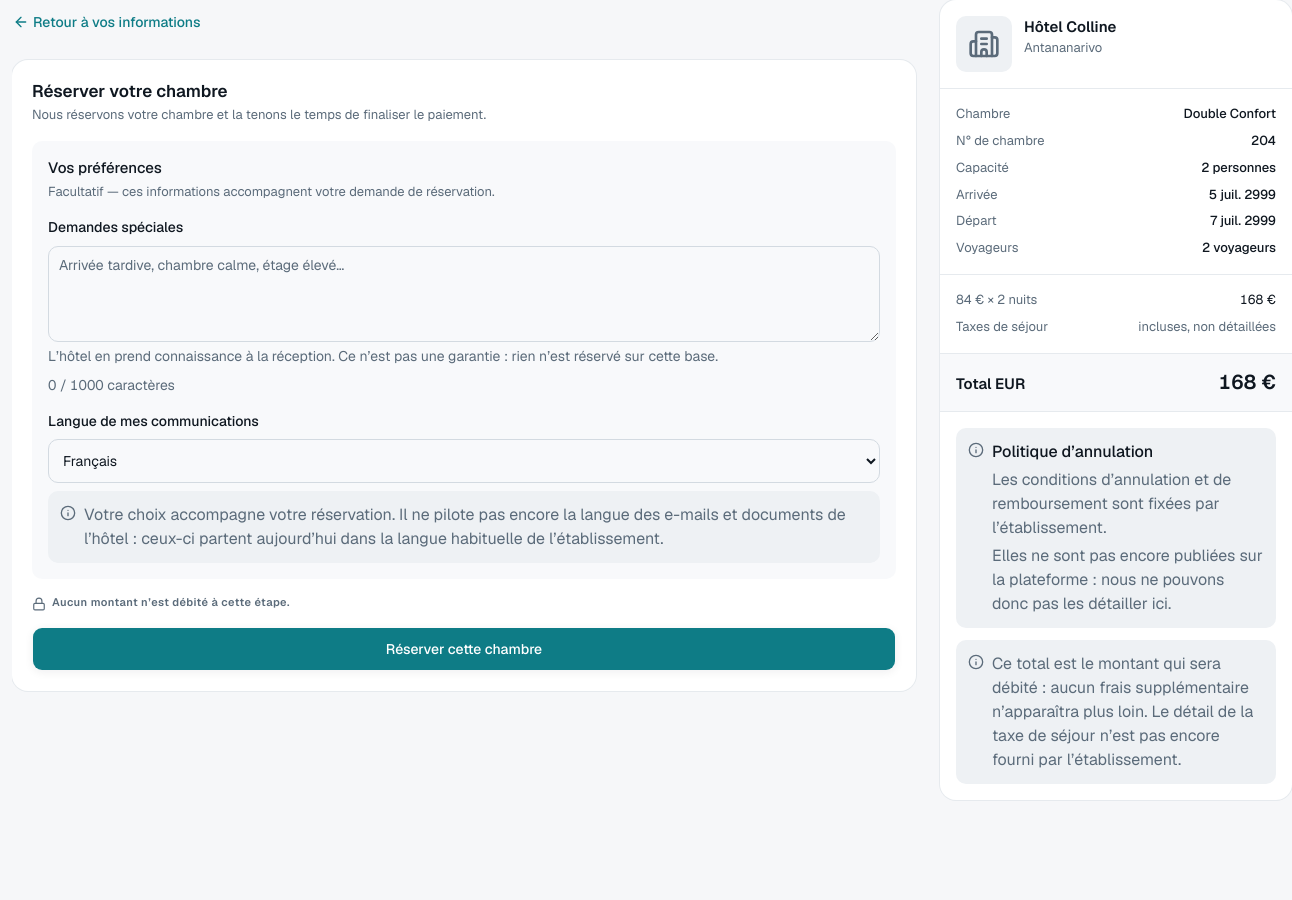
Test case: BookingPayment — échecs et issues (AC-11) › motif `room-unavailable` → issue `409`
Click the button with test id "payment-create-cta". click: [464, 649]
box: [32,627,896,671]
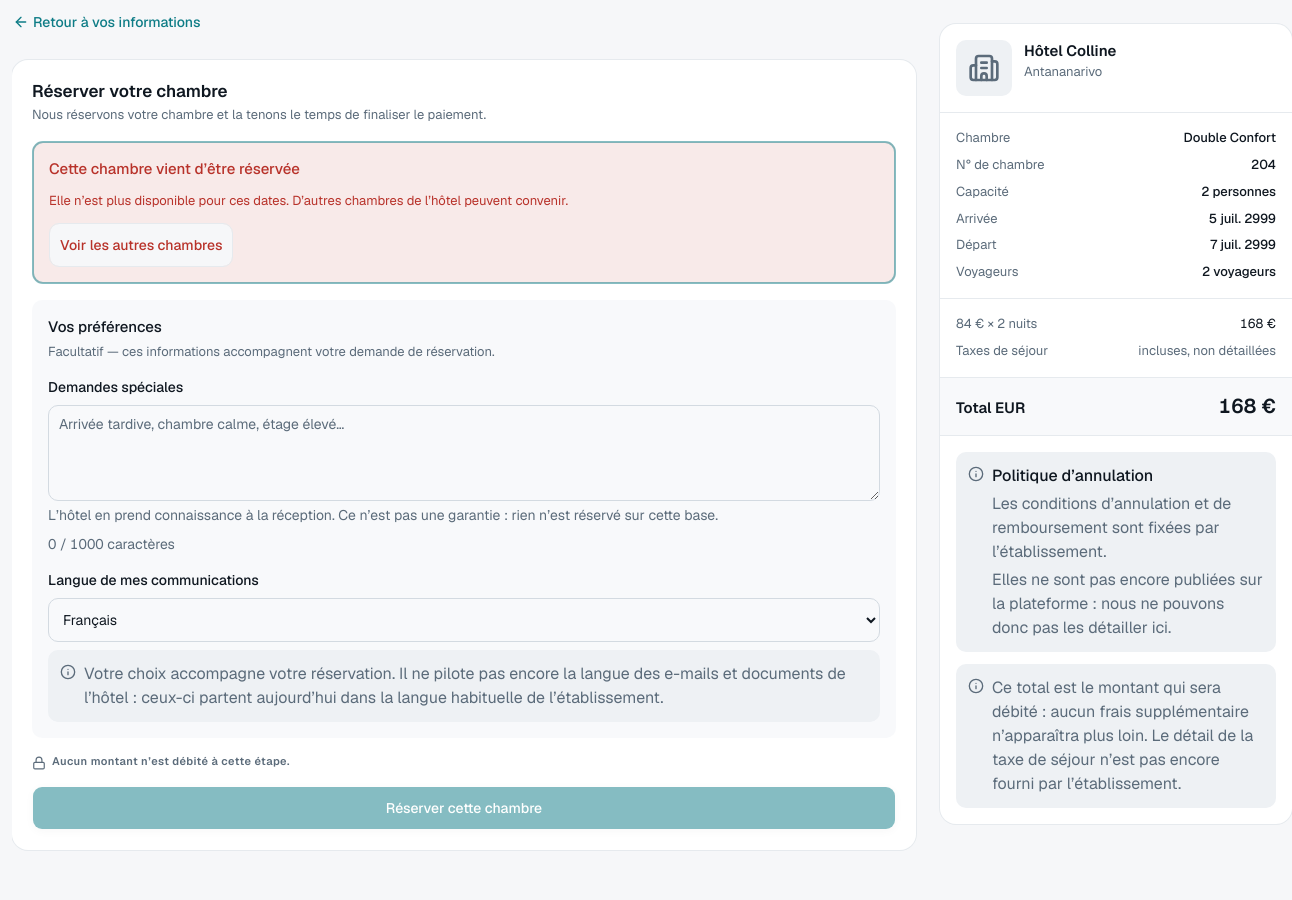
Expected: the link with test id "payment-failure-other-rooms" is shown, [49,223,233,267]
